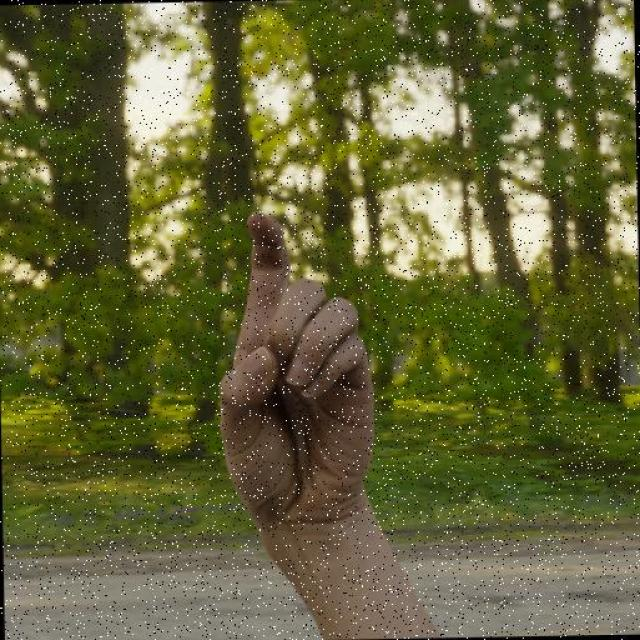X: (214, 206, 382, 540)
